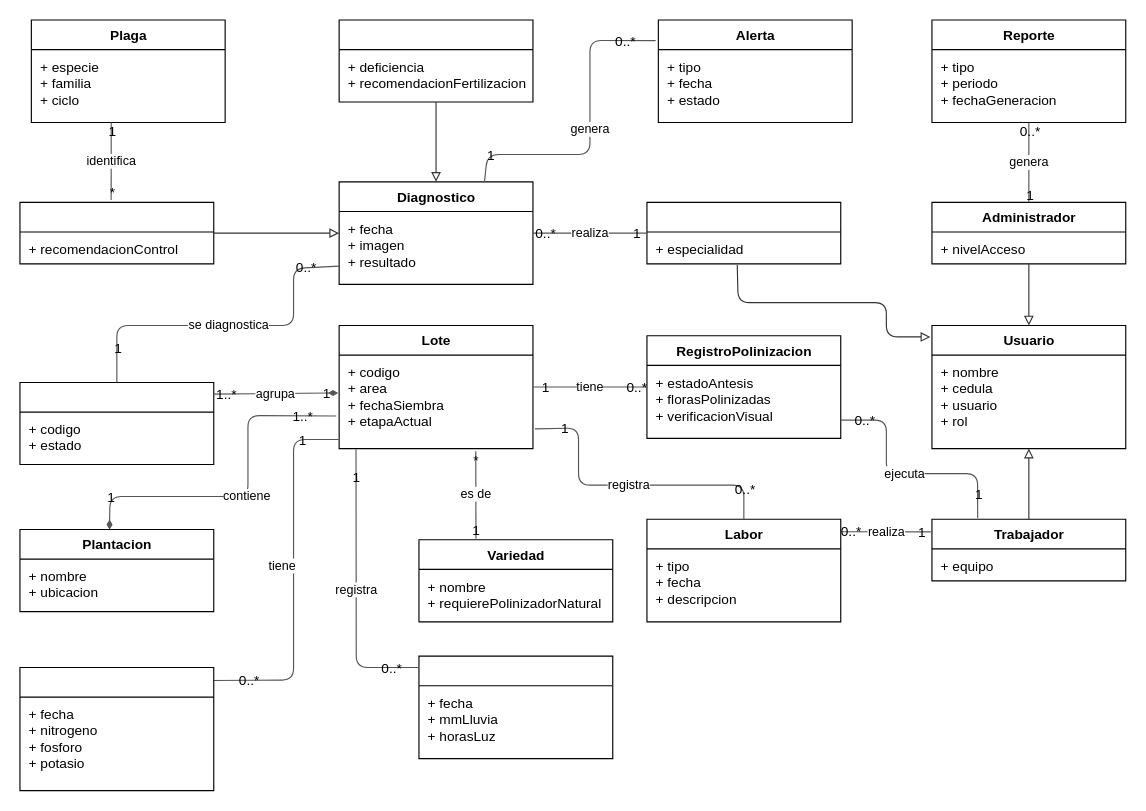
Image size: 1146x811. Some labels were removed from this diagram. Here are the shapes that lost their labels. From the top down, the box of each, then its label:
(338, 19, 533, 102): DiagnosticoNutricional
(19, 201, 214, 264): DiagnosticoPlaga
(646, 201, 841, 264): TecnicoAsesor
(19, 381, 214, 465): Palma
(418, 655, 613, 759): RegistroClimatico
(19, 666, 214, 791): AnalisisSueloFoliar
